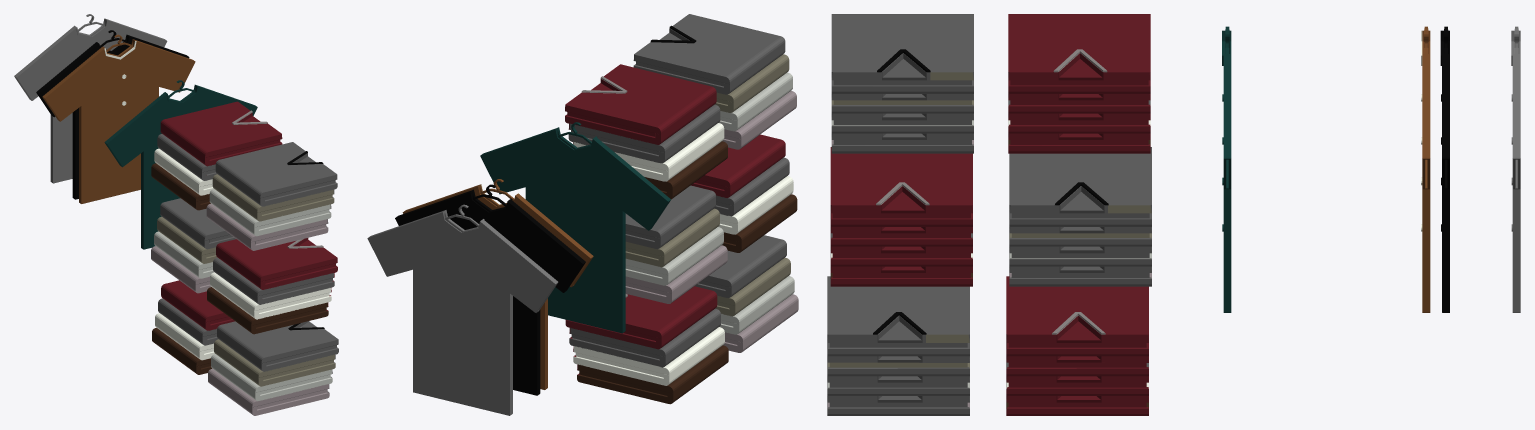
The model's file is RopaRopero.fbx.
The picture shows the model from 3 angles, left to right: view 1: azimuth 30°, elevation 25°; view 2: azimuth 150°, elevation 25°; view 3: azimuth 270°, elevation 25°; orthographic projection. The views are drawn at different scales.
Parts seen in each view (by area): view 1: Ropa.003, RopaPercha; view 2: Ropa.003, RopaPercha; view 3: Ropa.003, RopaPercha.
Part boxes in pixels (bbox=[...]): Ropa.003: bbox=[151, 101, 338, 415]; RopaPercha: bbox=[14, 14, 257, 249]; Ropa.003: bbox=[565, 14, 798, 404]; RopaPercha: bbox=[367, 122, 670, 415]; Ropa.003: bbox=[827, 14, 1151, 415]; RopaPercha: bbox=[1222, 26, 1520, 312].
Size of the model in its own units: 0.7708 by 1.13 by 1.92.
